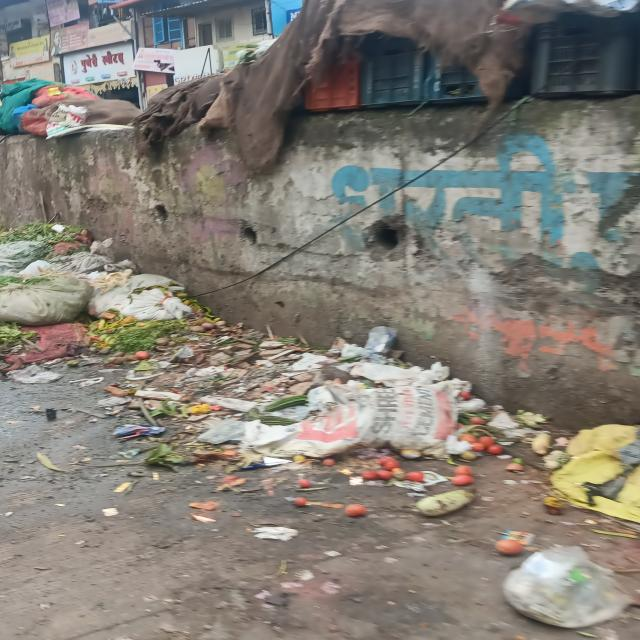garbage: (198, 313, 636, 526), (4, 220, 191, 374)
